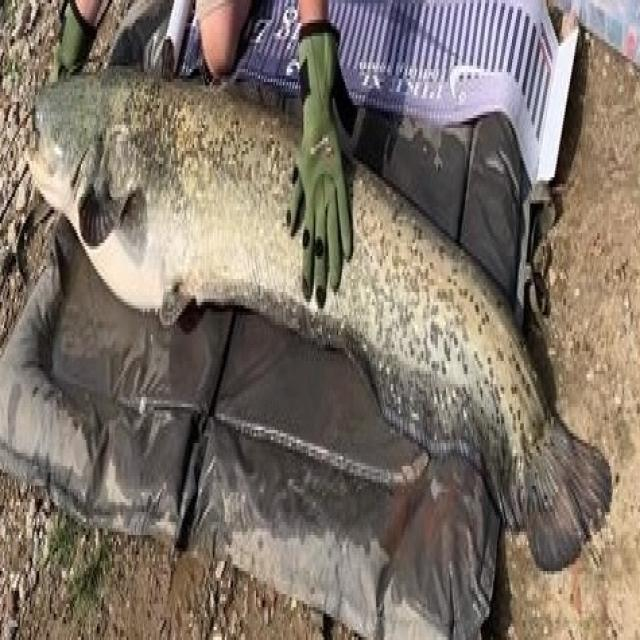Catfish: (15, 43, 622, 606)
